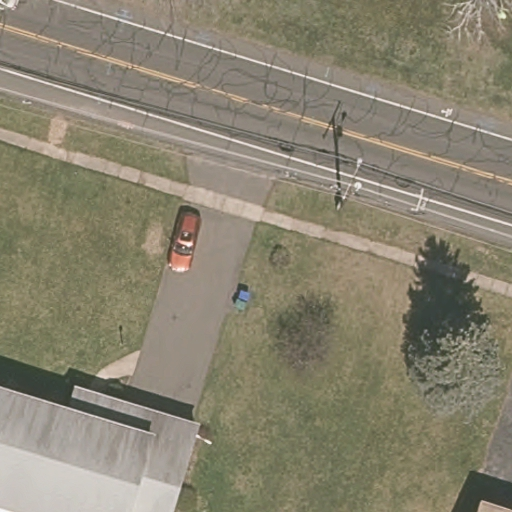DT: (337, 157, 363, 204)
